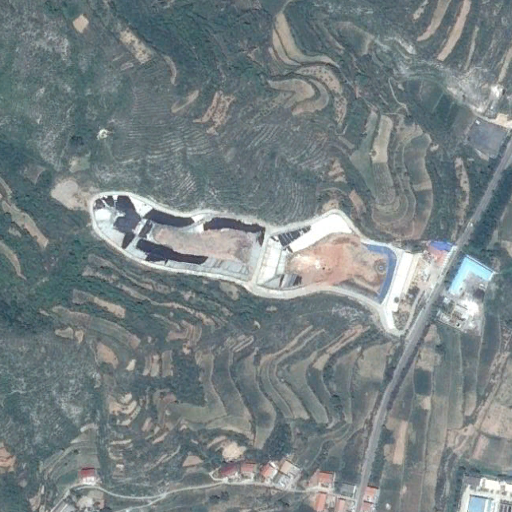lf: (86, 190, 401, 308)
